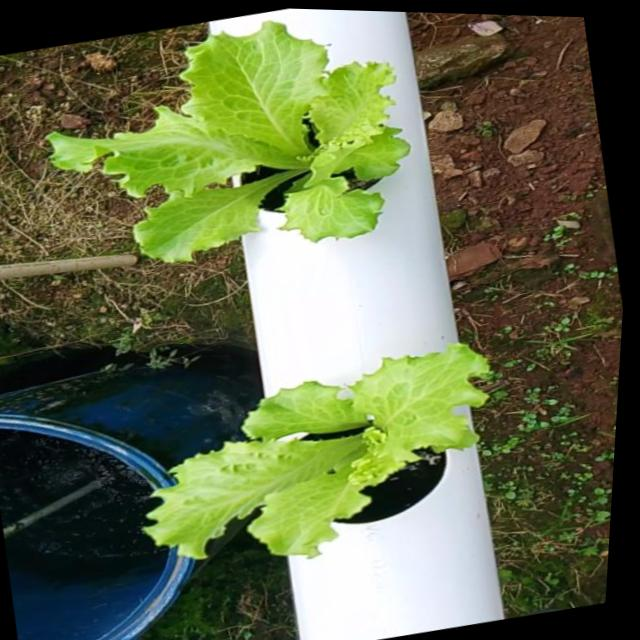Baby: (47, 24, 410, 268), (146, 351, 493, 568)
